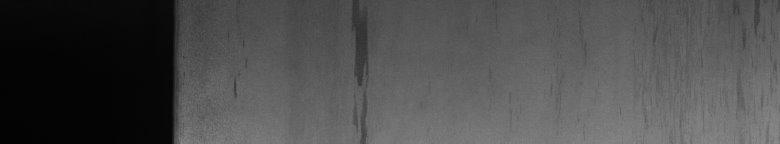hd: (352, 4, 368, 136)
